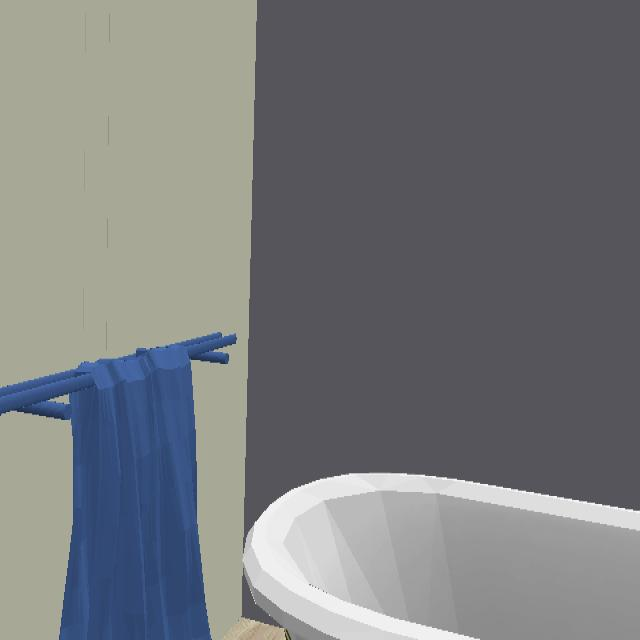bathtube: (242, 473, 640, 640)
